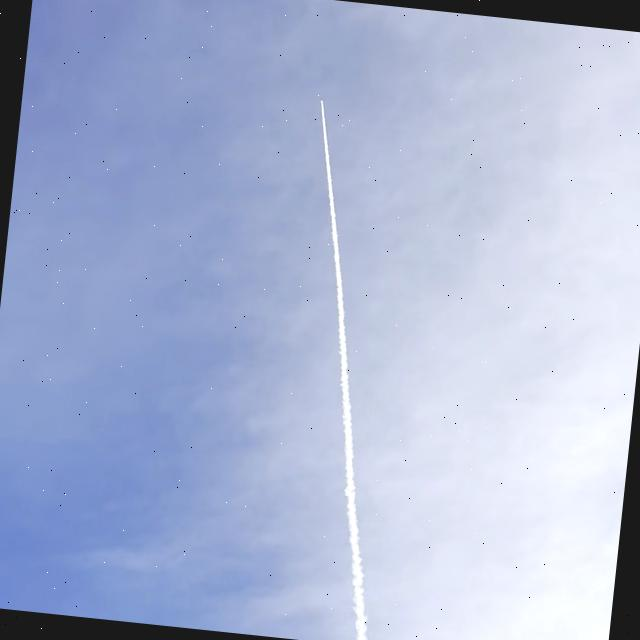smoke_trail_with_rocket: (319, 108, 366, 640)
